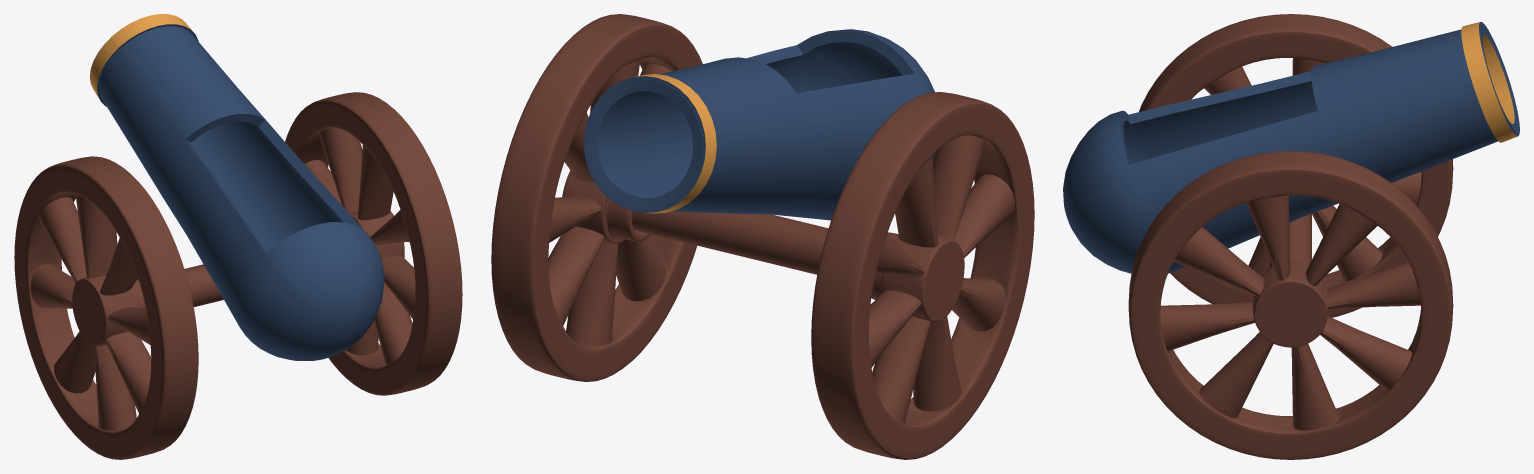
The model's file is cannon delivery.fbx.
3 renders of one model, left to right at view 1: azimuth 30°, elevation 25°; view 2: azimuth 150°, elevation 25°; view 3: azimuth 270°, elevation 25°, orthographic. The views are drawn at different scales.
Visible parts, largest first — view 1: cannon; view 2: cannon; view 3: cannon.
Boxes of the visible parts, x1,y1,x2,y2 form: cannon: (14, 14, 462, 459); cannon: (491, 14, 1034, 459); cannon: (1063, 14, 1519, 459).
Size of the model in its own units: 221 by 236 by 275.
